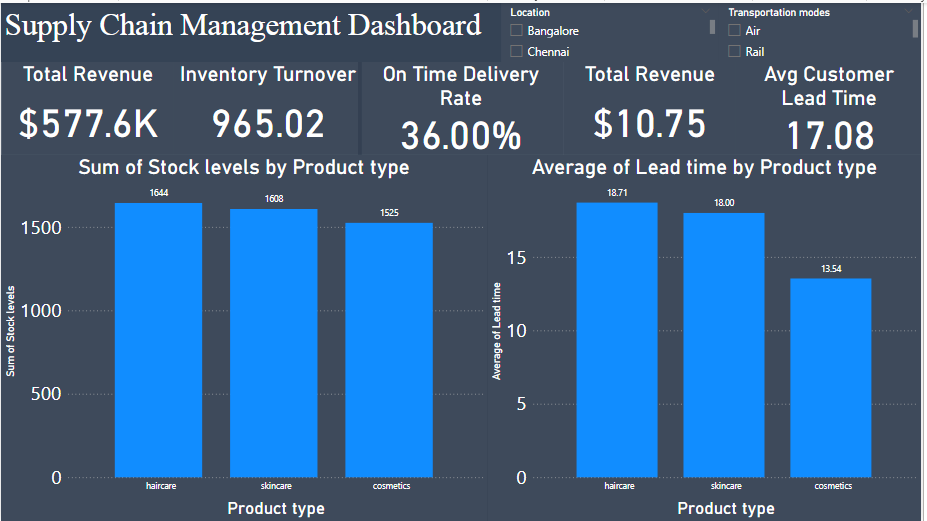

What the dashboard file says about the page in this screenshot:
{"tool":"powerbi","page":{"name":"  Page 4","canvas":[1280,720],"ordinal":3},"visuals":[{"type":"textbox","box":[0,0,695,82],"z":0},{"type":"card","title":"Total Revenue","fields":{"Values":["supply_chain_data.Total Revenue"]},"box":[1.4,82,239.1,129.3],"z":1000},{"type":"card","title":"Inventory Turnover","fields":{"Values":["supply_chain_data.Stock Turnover Rate"]},"box":[240.5,82,261.3,129.3],"z":2000},{"type":"card","title":"On Time Delivery Rate ","fields":{"Values":["supply_chain_data.Defect Rate"]},"box":[496.2,82,286.3,129.3],"z":3000},{"type":"card","title":"Total Revenue","fields":{"Values":["supply_chain_data.Cost per order"]},"box":[782.5,82,239.1,129.3],"z":4000},{"type":"card","title":"Avg Customer Lead Time","fields":{"Values":["Avg(supply_chain_data.Lead time)"]},"box":[1021.6,82,258.5,129.3],"z":5000},{"type":"slicer","fields":{"Values":["supply_chain_data.Location"]},"box":[695,0,303,82],"z":6000},{"type":"columnChart","fields":{"Category":["supply_chain_data.Product type"],"Y":["Sum(supply_chain_data.Stock levels)"]},"box":[0,211.3,675.5,508.7],"z":7000},{"type":"columnChart","fields":{"Category":["supply_chain_data.Product type"],"Y":["Avg(supply_chain_data.Lead time)"]},"box":[675.5,211.3,604.6,508.7],"z":8000},{"type":"slicer","fields":{"Values":["supply_chain_data.Transportation modes"]},"box":[997.8,0,282.2,82],"z":9000}]}

Visuals, with their boxes in screenshot pixels (x1, y1, x2, y2), scaled from the page's 1280x720 canvas onto the 927x521 screenshot:
textbox: BBox(0, 0, 503, 59)
"Total Revenue" card: BBox(1, 59, 174, 153)
"Inventory Turnover" card: BBox(174, 59, 363, 153)
"On Time Delivery Rate " card: BBox(359, 59, 567, 153)
"Total Revenue" card: BBox(567, 59, 740, 153)
"Avg Customer Lead Time" card: BBox(740, 59, 926, 153)
slicer - supply_chain_data.Location: BBox(503, 0, 723, 59)
columnChart - supply_chain_data.Product type x Sum(supply_chain_data.Stock levels): BBox(0, 153, 489, 520)
columnChart - supply_chain_data.Product type x Avg(supply_chain_data.Lead time): BBox(489, 153, 926, 520)
slicer - supply_chain_data.Transportation modes: BBox(723, 0, 926, 59)
